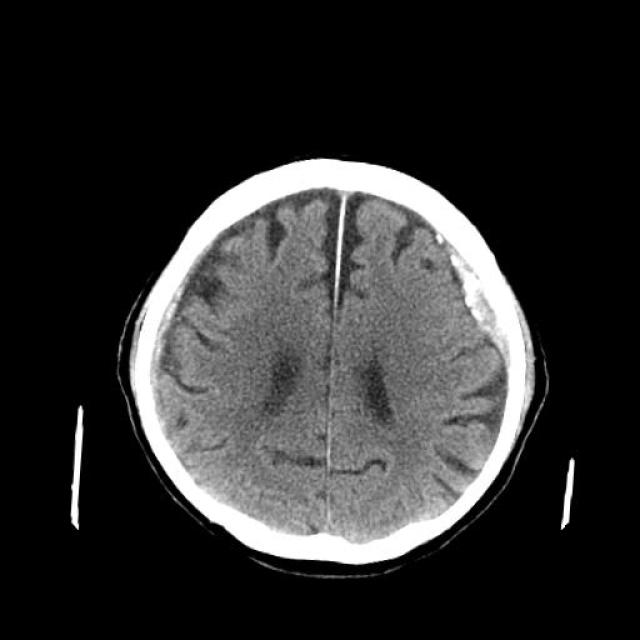Subdural: (424, 224, 540, 400)
